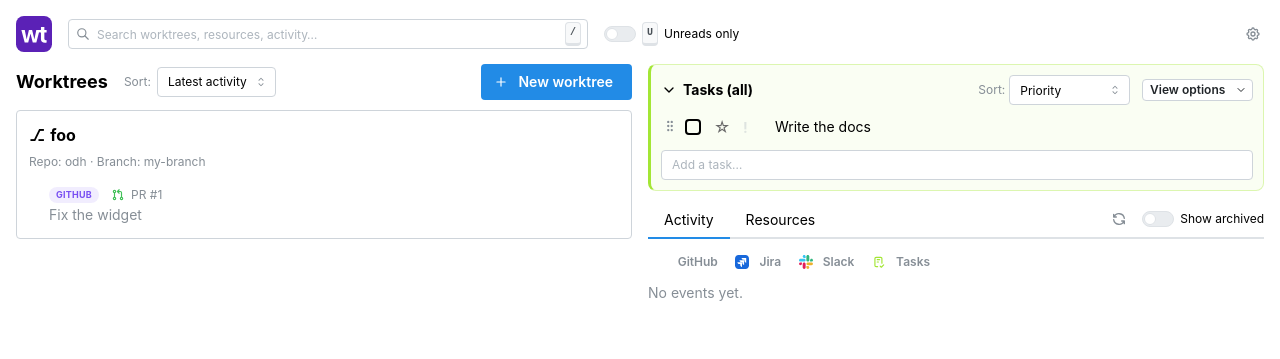
HomePage search › a source filter heads the worktrees and the feed with 'match your filters'
Click the button "GitHub". click: click(687, 262)
box: [648, 251, 726, 273]
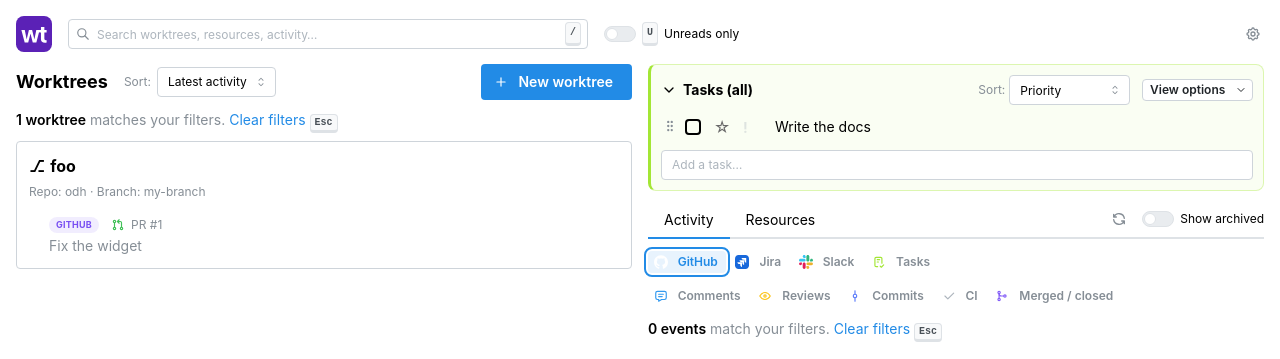
# The line's link clears them.
Click the button "Clear filters" next to "matches your filters.". click: click(267, 120)
box: [229, 110, 306, 130]
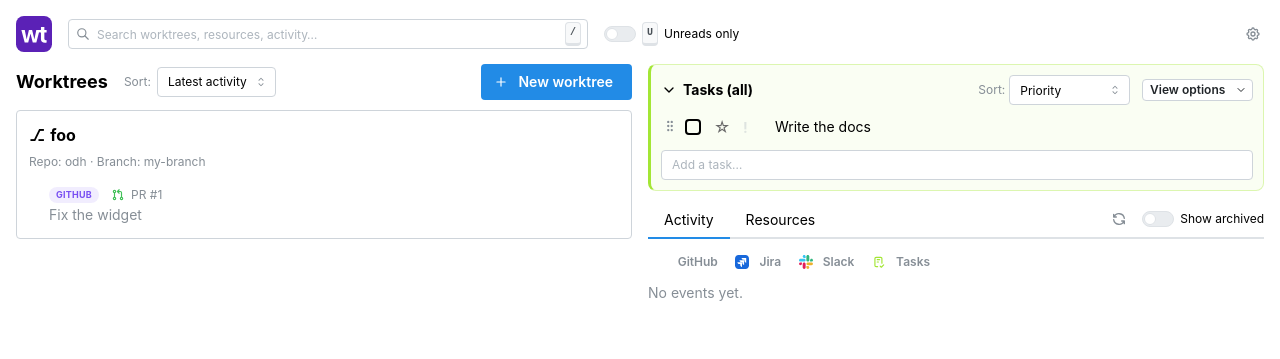
Check: the element with test id "search-summary" is gone
